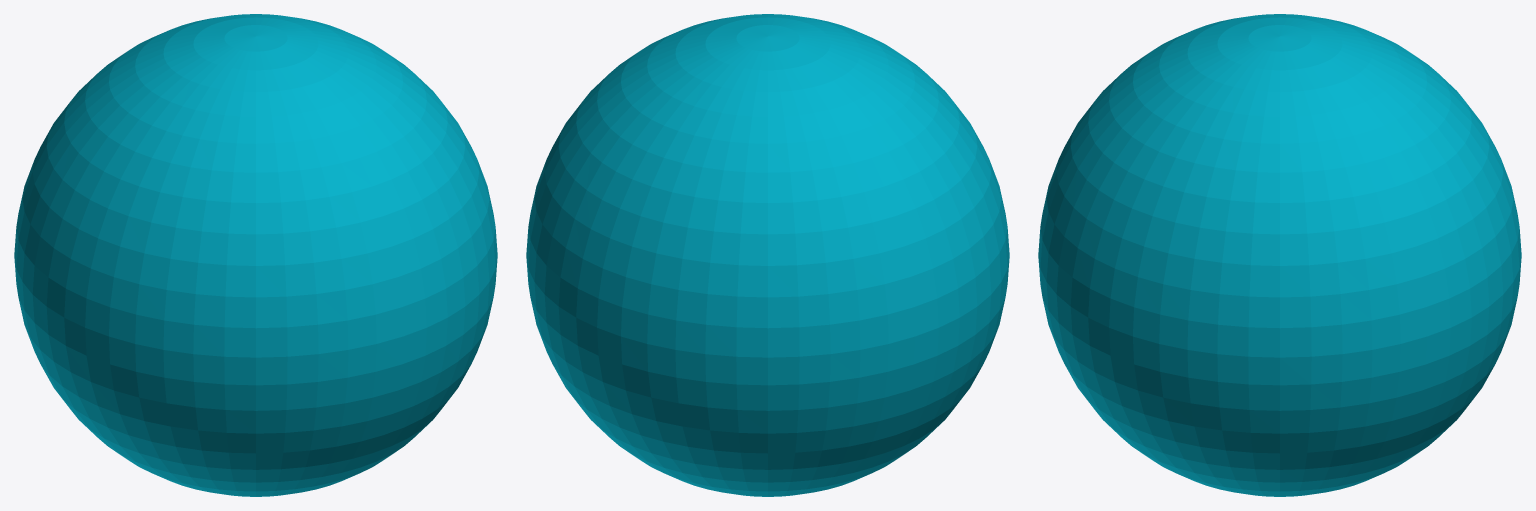
File: ball.glb
The picture shows the model from 3 angles, left to right: view 1: azimuth 30°, elevation 25°; view 2: azimuth 150°, elevation 25°; view 3: azimuth 270°, elevation 25°; orthographic projection.
Parts seen in each view (by area): view 1: Mesh_Mesh_head_geo.001_lambert2SG.001; view 2: Mesh_Mesh_head_geo.001_lambert2SG.001; view 3: Mesh_Mesh_head_geo.001_lambert2SG.001.
Part boxes in pixels (x1,y1,x2,y2): Mesh_Mesh_head_geo.001_lambert2SG.001: [14, 14, 497, 496]; Mesh_Mesh_head_geo.001_lambert2SG.001: [526, 14, 1009, 496]; Mesh_Mesh_head_geo.001_lambert2SG.001: [1038, 14, 1521, 496].
Size of the model in its own units: 0.02 by 0.02 by 0.02.
